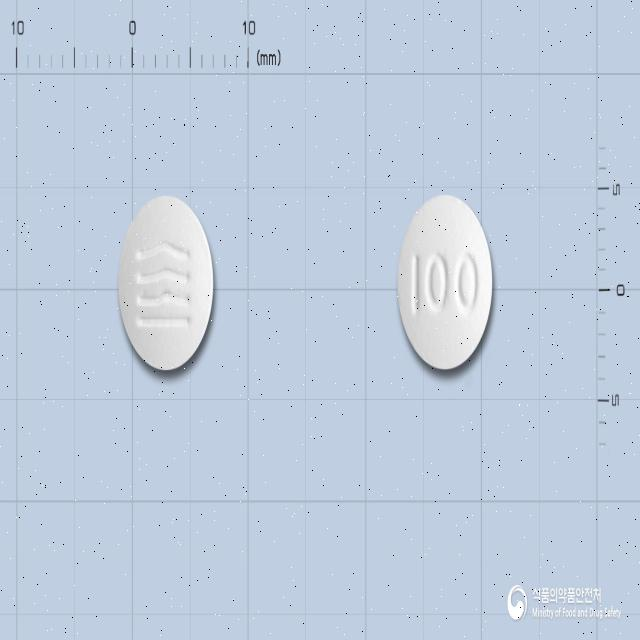Levotra: (117, 193, 215, 371), (398, 192, 493, 370)
